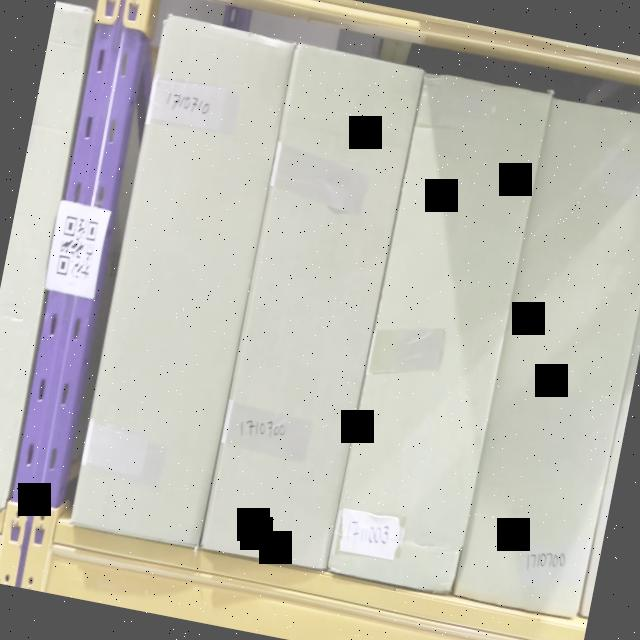box: (68, 17, 295, 550), (202, 46, 426, 574), (331, 73, 554, 592), (458, 95, 640, 614)
